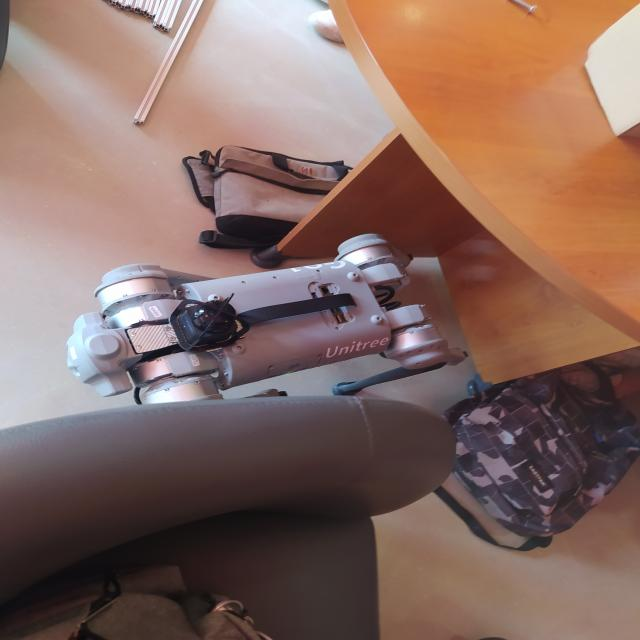unitree-go1-robot: (56, 228, 481, 430)
